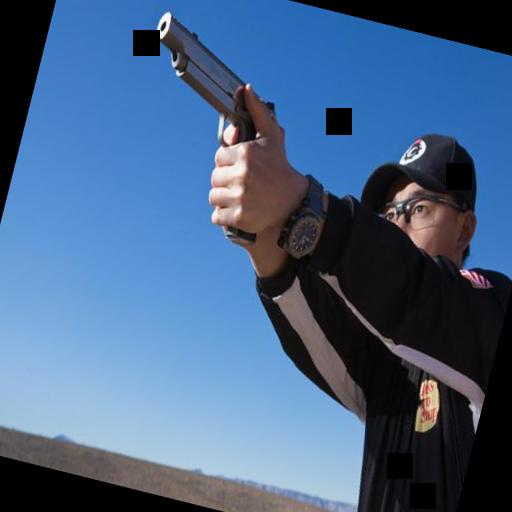Handgun: (104, 0, 317, 255)
